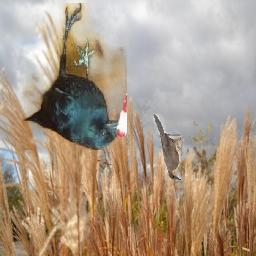Crow: (23, 4, 128, 151)
Cuckoo: (153, 114, 181, 180)
